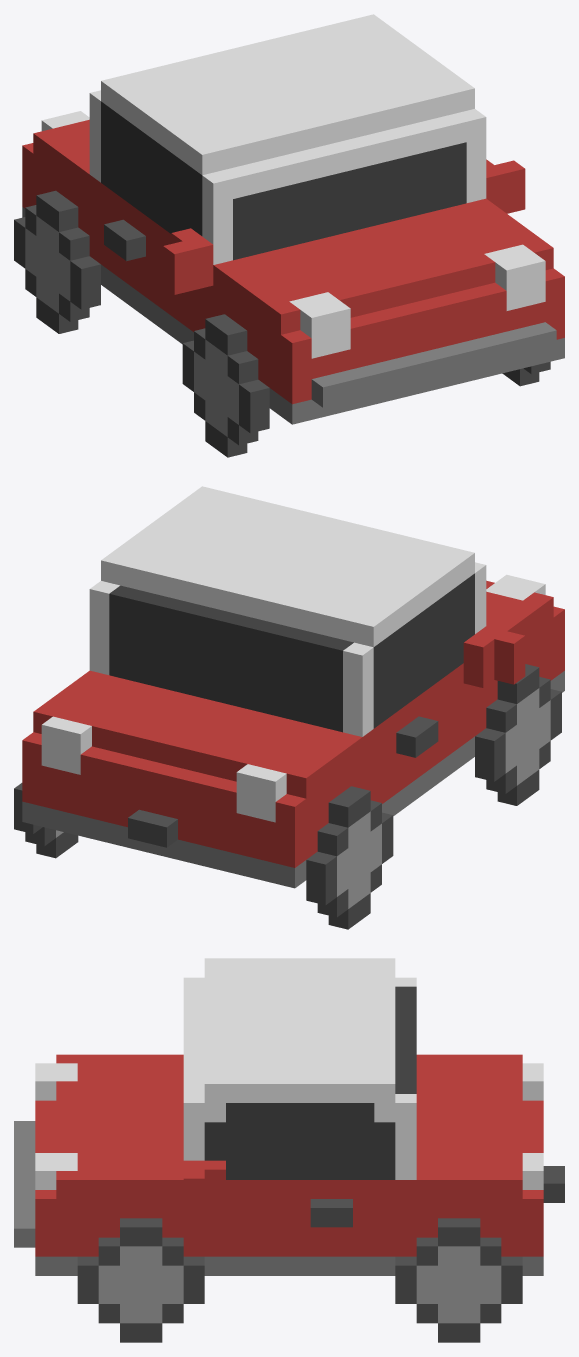
Rendered from id-beach-car3.obj.
The picture shows the model from 3 angles, top to bottom: view 1: azimuth 30°, elevation 25°; view 2: azimuth 150°, elevation 25°; view 3: azimuth 270°, elevation 25°; orthographic projection. The views are drawn at different scales.
Size of the model in its own units: 18 by 13 by 26.
1 material, 1 textured.
